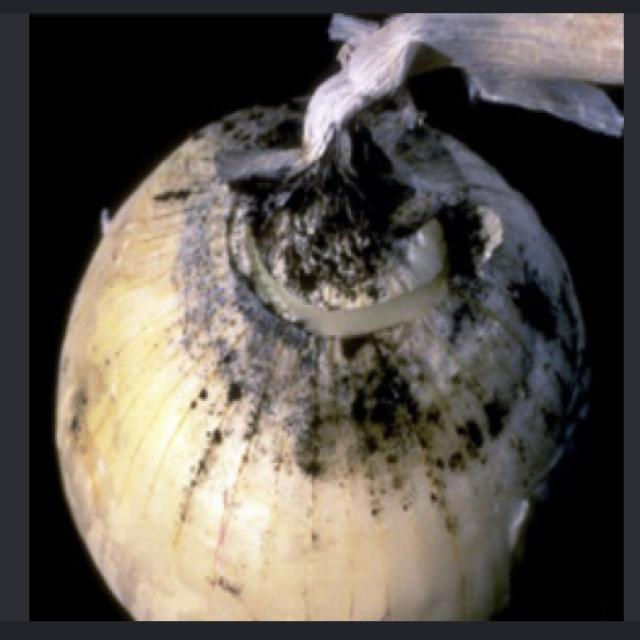mechanical_damage: (55, 13, 621, 619)
